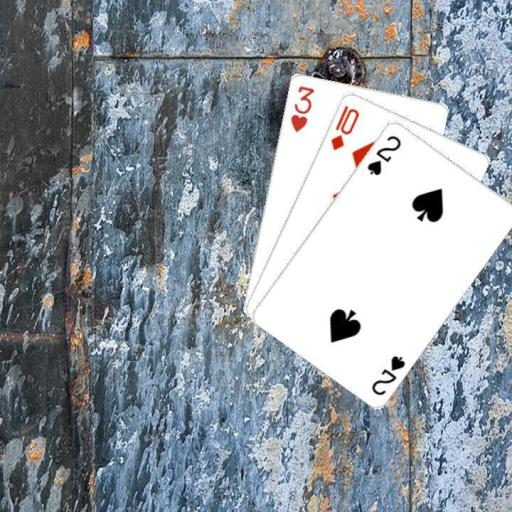card-corner: (368, 351, 406, 397), (364, 132, 402, 177), (327, 102, 361, 152), (287, 82, 316, 133)
